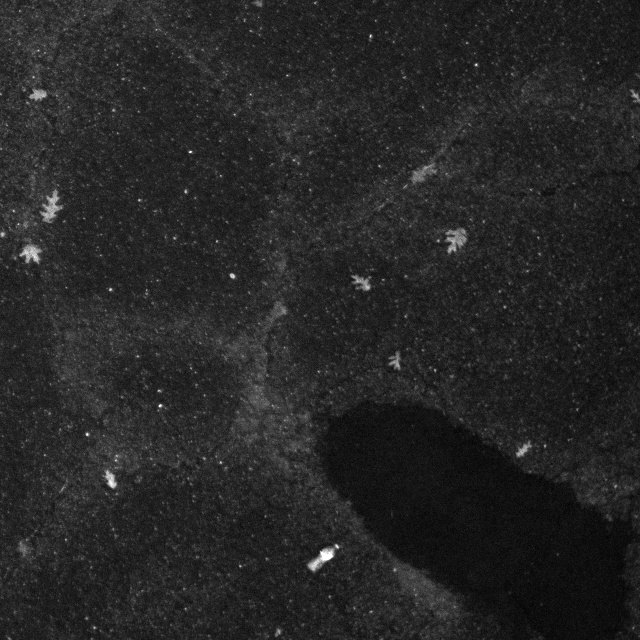bottle: (294, 539, 355, 570)
